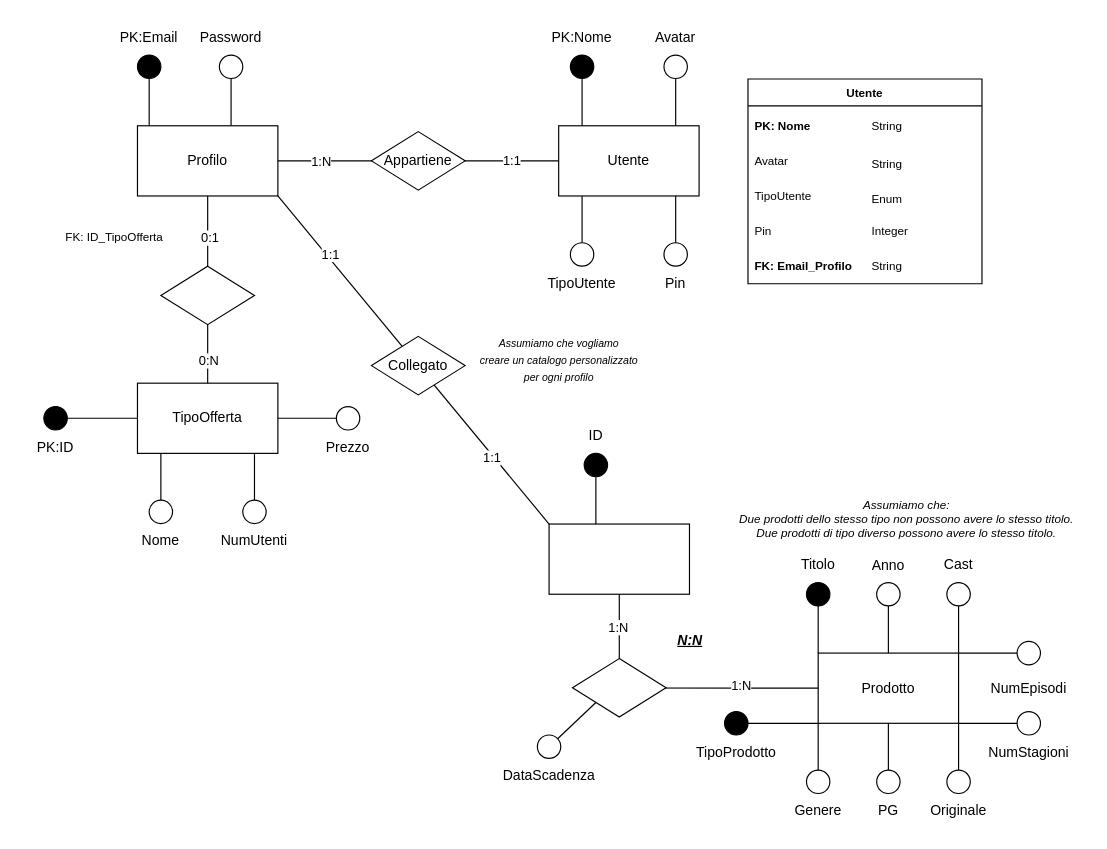
Some shapes in this 1107 by 849 pixel diagram are drawn without their labels. Here are the shapes that lost their labels. From the top down, the centre of each, then its label:
At [207,295]: "Attiva".
At [618,558]: "Catalogo".
At [618,687]: "Contiene".
